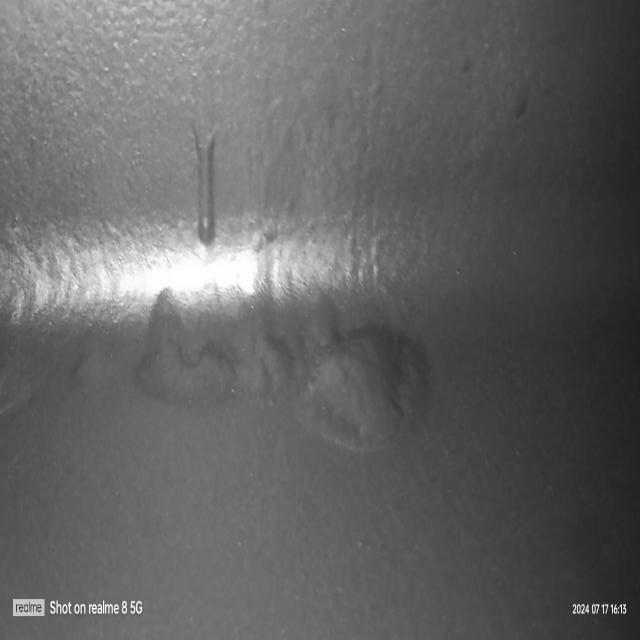paint drips: (182, 79, 231, 260)
